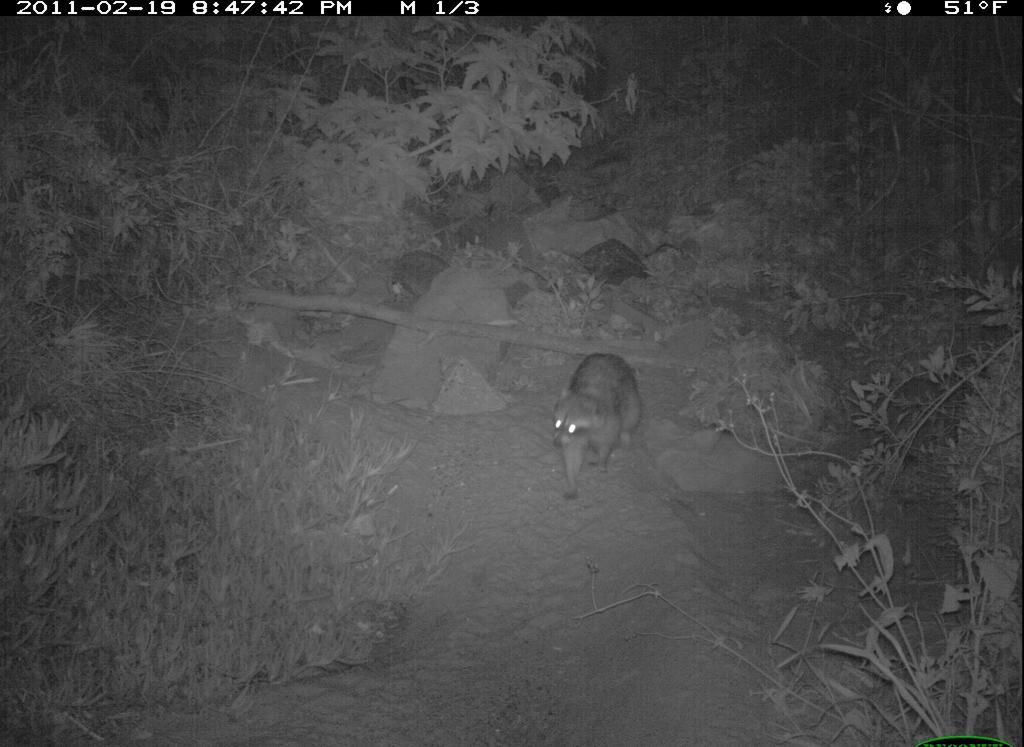raccoon: (549, 348, 646, 505)
